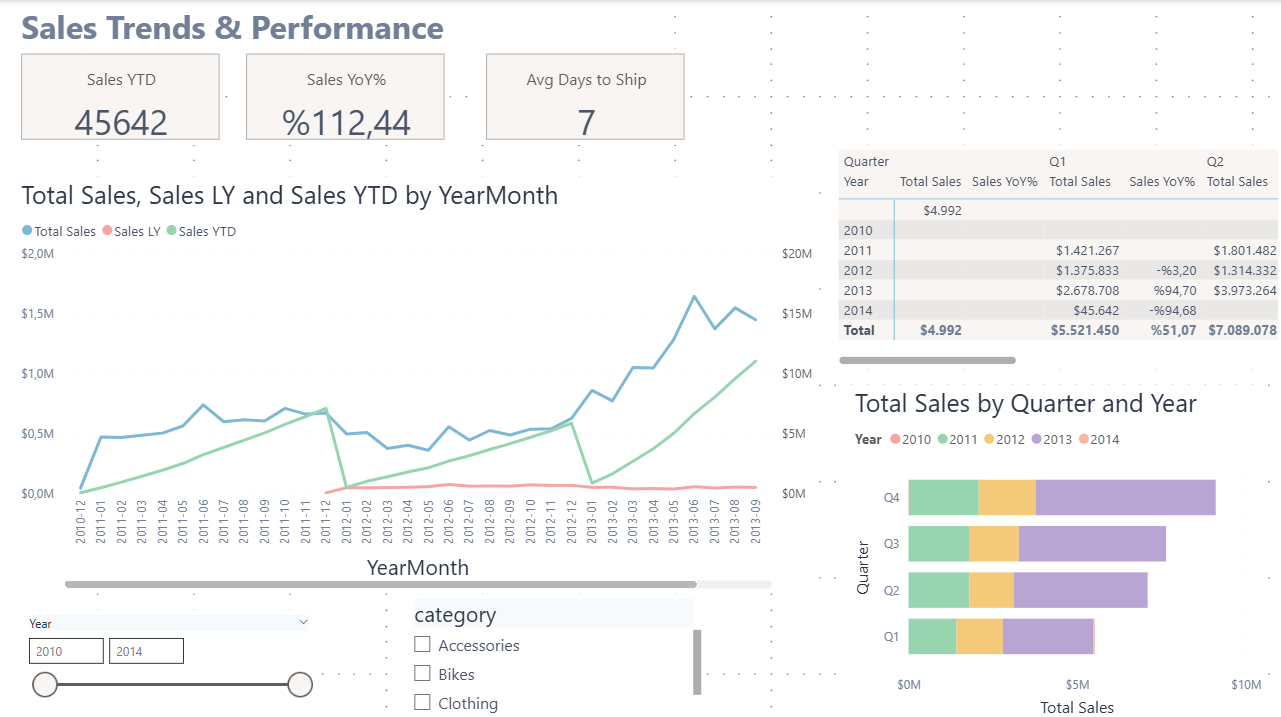

Layout of this report page (visuals, bound fields, positions):
{"tool":"powerbi","page":{"name":"Sales Trends","canvas":[1280,720],"ordinal":3},"visuals":[{"type":"textbox","box":[16,0,624,80],"z":0},{"type":"cardVisual","fields":{"Data":["_Measures.Sales YTD"]},"box":[16,48,208,96],"z":1000},{"type":"cardVisual","fields":{"Data":["_Measures.Sales MTD"]},"box":[224,48,208,96],"z":2000},{"type":"cardVisual","fields":{"Data":["_Measures.Sales YoY%"]},"box":[432,48,208,96],"z":3000},{"type":"cardVisual","fields":{"Data":["_Measures.Avg Days to Ship"]},"box":[640,48,208,96],"z":4000},{"type":"lineChart","fields":{"Category":["DateTable.YearMonth"],"Y":["_Measures.Total Sales"],"Y2":["_Measures.Sales LY","_Measures.Sales YTD"]},"box":[16,176,816,416],"z":5000},{"type":"pivotTable","fields":{"Rows":["DateTable.Year"],"Columns":["DateTable.Quarter"],"Values":["_Measures.Total Sales","_Measures.Sales YoY%"]},"box":[848,128,432,224],"z":6000},{"type":"barChart","fields":{"Series":["DateTable.Year"],"Category":["DateTable.Quarter"],"Y":["_Measures.Total Sales"]},"box":[848,384,416,336],"z":6001},{"type":"slicer","fields":{"Values":["DateTable.Year"]},"box":[16,608,304,112],"z":6002},{"type":"slicer","fields":{"Values":["gold dim_products.category"]},"box":[400,592,304,128],"z":6003}]}

Visuals, with their boxes in screenshot pixels (x1, y1, x2, y2), scaled from the page's 1280x720 canvas onto the 1281x717 screenshot:
textbox: 16:0:640:80
cardVisual - _Measures.Sales YTD: 16:48:224:143
cardVisual - _Measures.Sales MTD: 224:48:432:143
cardVisual - _Measures.Sales YoY%: 432:48:640:143
cardVisual - _Measures.Avg Days to Ship: 640:48:849:143
lineChart - DateTable.YearMonth x _Measures.Total Sales: 16:175:833:590
pivotTable - DateTable.Year x DateTable.Quarter: 849:127:1280:351
barChart - DateTable.Year x DateTable.Quarter: 849:382:1265:716
slicer - DateTable.Year: 16:605:320:716
slicer - gold dim_products.category: 400:590:705:716
